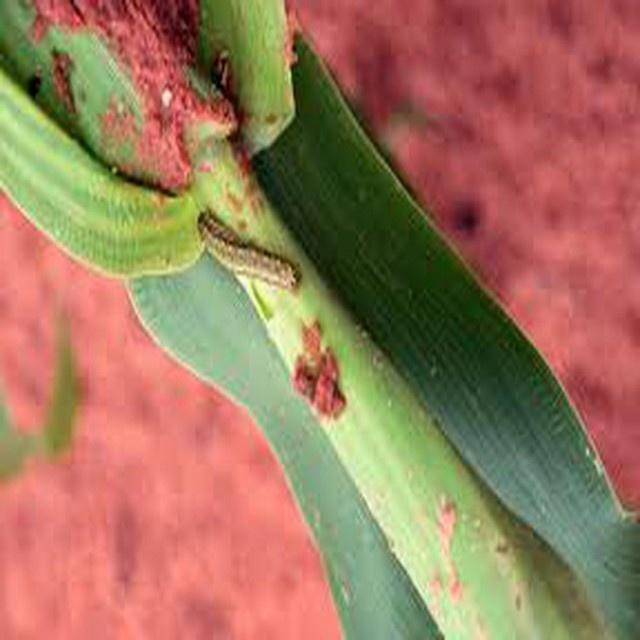gusano_cogollero: (200, 217, 302, 287)
